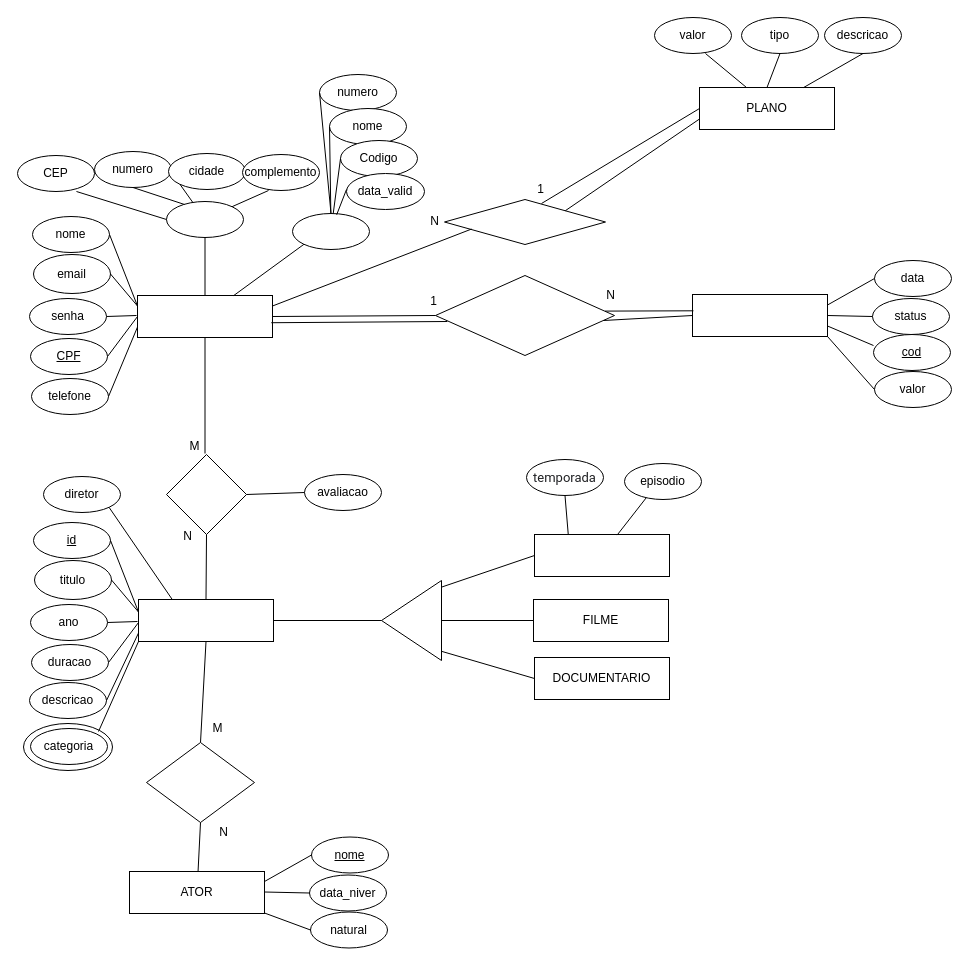
This 969x966 diagram has some shape labels left out. The box of each missing label's shape, as (x1, y1, x2, y2) in pixels:
cartao: (292, 212, 370, 250)
endereco: (166, 200, 244, 238)
PAG_MENSAL: (692, 294, 828, 336)
PARTICIPA: (146, 742, 254, 822)
REALIZOU: (434, 274, 614, 356)
SERIE: (534, 534, 670, 576)
TEM: (444, 198, 606, 244)
USUARIO: (136, 294, 272, 338)
VER: (166, 454, 246, 534)
VIDEO: (138, 598, 274, 642)
